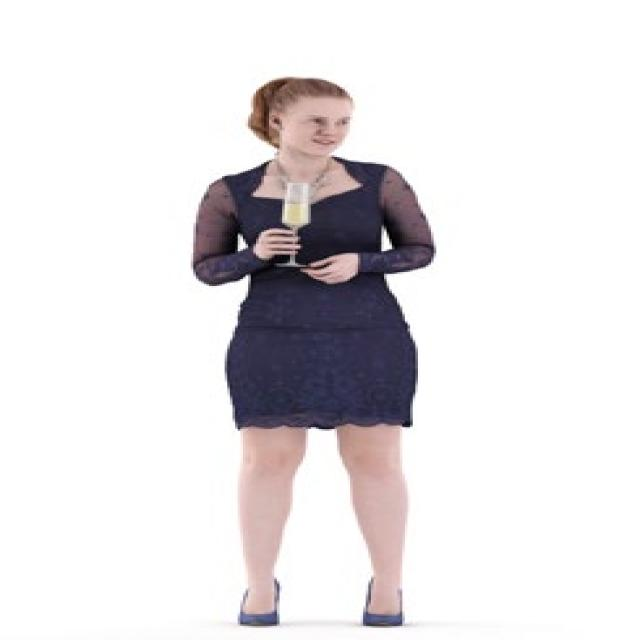standing: (185, 72, 453, 632)
